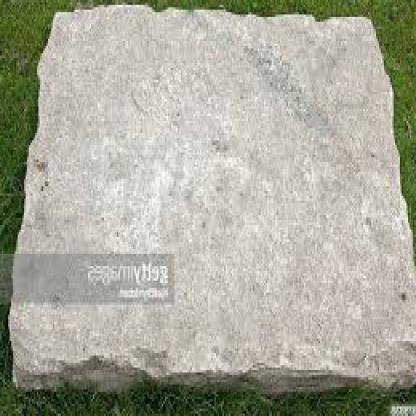Metamorphic_Marble: (9, 0, 415, 401)
